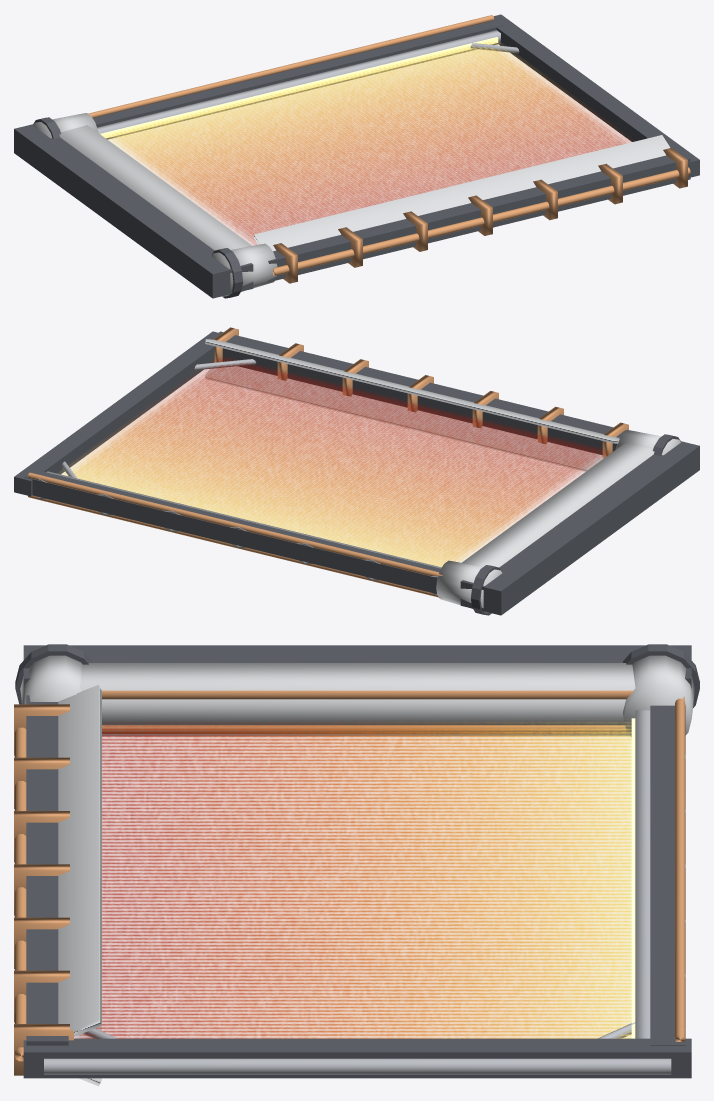
File: mod_liquid_droplet_radiator.glb
3 views of the same model, one above another, from view 1: azimuth 30°, elevation 25°; view 2: azimuth 150°, elevation 25°; view 3: azimuth 270°, elevation 25° (orthographic). The views are drawn at different scales.
Parts seen in each view (by area): view 1: LDR_Droplet_Curtain_VFX, LDR_Emitter_Collector_Booms, LDR_Manifold_And_CollectorHoods, LDR_LiquidMetal_Coolant_Pipes, LDR_SprayNozzles_And_Truss, LDR_Emitter_Nozzle_Glow; view 2: LDR_Droplet_Curtain_VFX, LDR_Emitter_Collector_Booms, LDR_Manifold_And_CollectorHoods, LDR_LiquidMetal_Coolant_Pipes, LDR_SprayNozzles_And_Truss; view 3: LDR_Droplet_Curtain_VFX, LDR_Manifold_And_CollectorHoods, LDR_Emitter_Collector_Booms, LDR_LiquidMetal_Coolant_Pipes, LDR_SprayNozzles_And_Truss, LDR_Emitter_Nozzle_Glow.
Boxes of the visible parts, x1,y1,x2,y2 form: LDR_Droplet_Curtain_VFX: (104,41,630,244); LDR_Emitter_Collector_Booms: (14,14,699,298); LDR_Manifold_And_CollectorHoods: (33,113,670,296); LDR_LiquidMetal_Coolant_Pipes: (88,15,690,283); LDR_SprayNozzles_And_Truss: (97,30,519,139); LDR_Emitter_Nozzle_Glow: (100,37,498,138); LDR_Droplet_Curtain_VFX: (60,358,607,567); LDR_Emitter_Collector_Booms: (14,331,699,615); LDR_Manifold_And_CollectorHoods: (205,339,680,613); LDR_LiquidMetal_Coolant_Pipes: (28,327,628,598); LDR_SprayNozzles_And_Truss: (38,359,441,595); LDR_Droplet_Curtain_VFX: (77,722,631,1038); LDR_Manifold_And_CollectorHoods: (20,655,694,1086); LDR_Emitter_Collector_Booms: (15,644,699,1078); LDR_LiquidMetal_Coolant_Pipes: (14,690,685,1075); LDR_SprayNozzles_And_Truss: (44,701,685,1074); LDR_Emitter_Nozzle_Glow: (631,718,635,1038).
Size of the model in its own units: 14.02 by 1.21 by 10.06.
6 materials, 1 textured.
